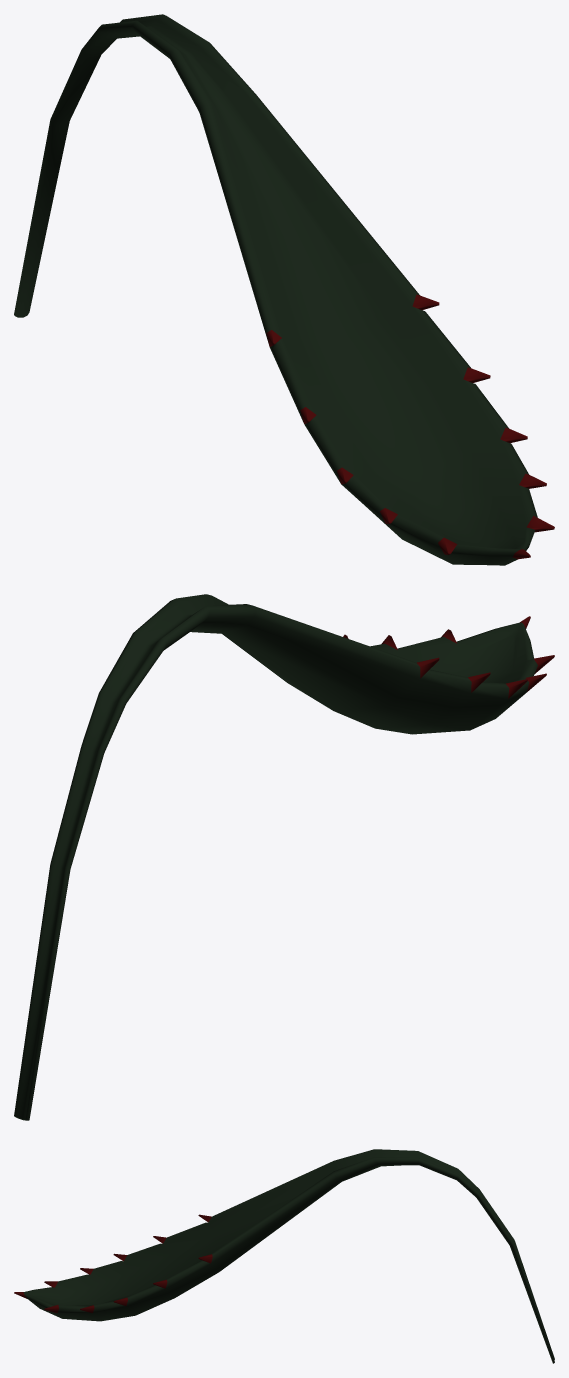
File: Plant_06_leaf_thorns_LP_UV.fbx
3 views of the same model, one above another, from view 1: azimuth 30°, elevation 25°; view 2: azimuth 150°, elevation 25°; view 3: azimuth 270°, elevation 25° (orthographic). The views are drawn at different scales.
Parts seen in each view (by area): view 1: Plant_06_leaf_thorns_LP_UV; view 2: Plant_06_leaf_thorns_LP_UV; view 3: Plant_06_leaf_thorns_LP_UV.
Boxes of the visible parts, x1,y1,x2,y2 form: Plant_06_leaf_thorns_LP_UV: (14,14,554,565); Plant_06_leaf_thorns_LP_UV: (14,594,554,1120); Plant_06_leaf_thorns_LP_UV: (14,1149,554,1363).
Size of the model in its own units: 79.35 by 382 by 164.
